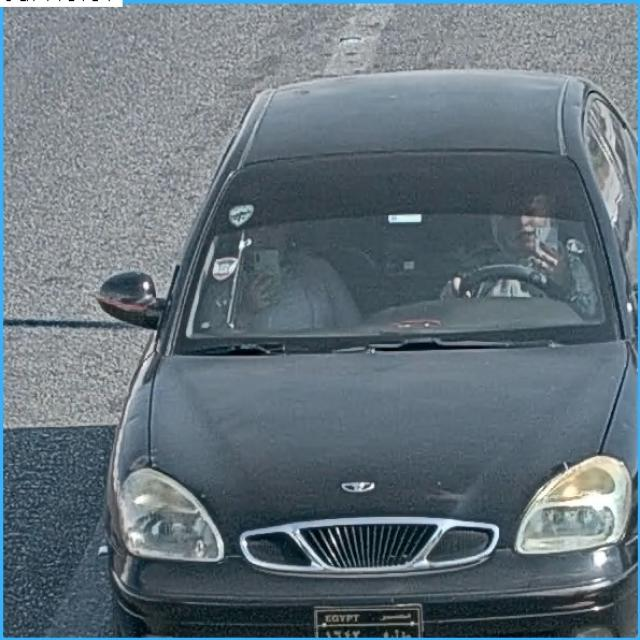windshield: (179, 160, 626, 338)
